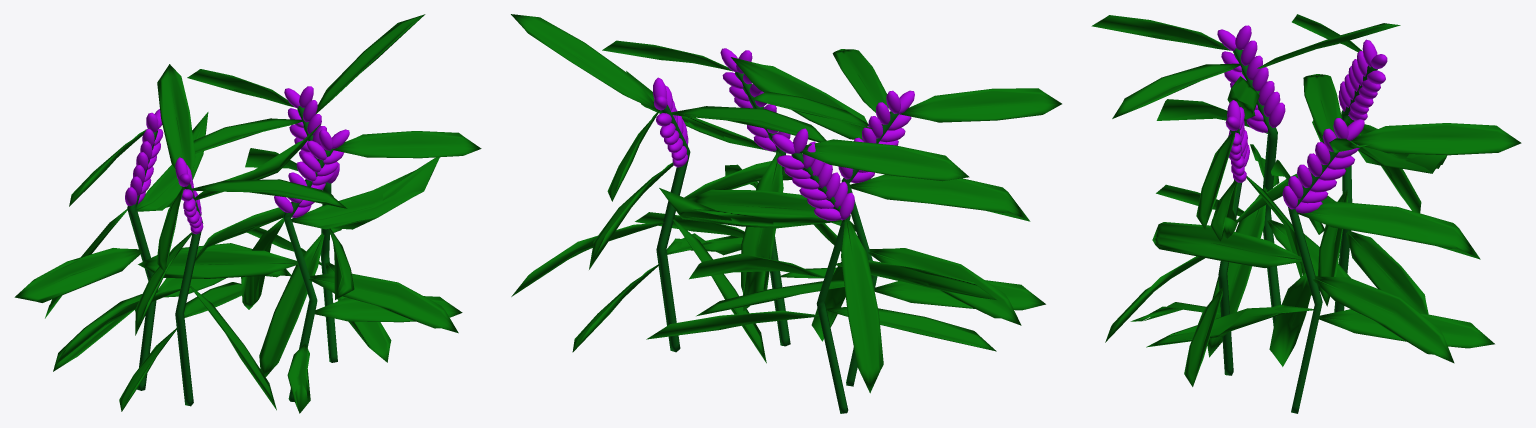
Rendered from Lavande_Croissance_3.fbx.
3 views of the same model, side by side, from view 1: azimuth 30°, elevation 25°; view 2: azimuth 150°, elevation 25°; view 3: azimuth 270°, elevation 25° (orthographic). The views are drawn at different scales.
Parts seen in each view (by area): view 1: Plane.005, Plane.003, Plane.006, Plane.027, Plane.007, Plane.016, Plane.036, Plane.037, Plane.020, Plane.017, Plane, Plane.025 (+23 smaller); view 2: Plane.028, Plane.029, Plane.032, Plane.033, Plane.017, Plane.031, Plane.010, Plane.034, Plane.025, Plane.008, Plane.024, Plane.018 (+22 smaller); view 3: Plane.013, Plane.014, Plane.012, Plane.015, Plane.021, Plane.004, Plane.009, Plane.037, Plane.016, Plane.033, Plane.035, Plane.011 (+20 smaller).
Part boxes in pixels (x1,y1,x2,y2): Plane.005: (291, 157, 439, 229); Plane.003: (308, 273, 458, 333); Plane.006: (333, 131, 481, 158); Plane.027: (14, 248, 142, 302); Plane.007: (138, 249, 298, 278); Plane.016: (259, 233, 324, 376); Plane.036: (157, 64, 195, 176); Plane.037: (190, 179, 347, 208); Plane.020: (175, 183, 203, 406); Plane.017: (316, 14, 425, 113); Plane: (315, 296, 462, 322); Plane.025: (136, 112, 208, 211); Plane.028: (841, 219, 883, 393); Plane.029: (799, 139, 969, 181); Plane.032: (850, 174, 1030, 221); Plane.033: (900, 88, 1061, 122); Plane.017: (511, 14, 658, 110); Plane.031: (868, 248, 1021, 325); Plane.010: (731, 57, 867, 140); Plane.034: (689, 189, 856, 231); Plane.025: (659, 188, 842, 228); Plane.008: (741, 151, 783, 310); Plane.024: (874, 280, 1045, 310); Plane.018: (669, 106, 826, 142); Plane.013: (1297, 201, 1480, 259); Plane.014: (1351, 123, 1521, 155); Plane.012: (1313, 276, 1454, 363); Plane.015: (1152, 222, 1302, 267); Plane.021: (1346, 230, 1428, 314); Plane.004: (1319, 309, 1494, 348); Plane.009: (1288, 151, 1338, 413); Plane.037: (1112, 63, 1241, 118); Plane.016: (1269, 273, 1311, 366); Plane.033: (1091, 15, 1230, 50); Plane.035: (1207, 187, 1267, 357); Plane.011: (1146, 305, 1313, 347).
Bounding box in the file's own units: 424 × 282 × 333.
